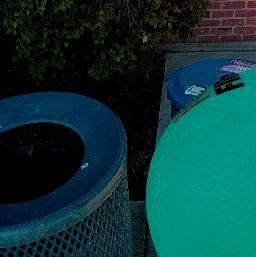algae: (148, 62, 256, 257)
